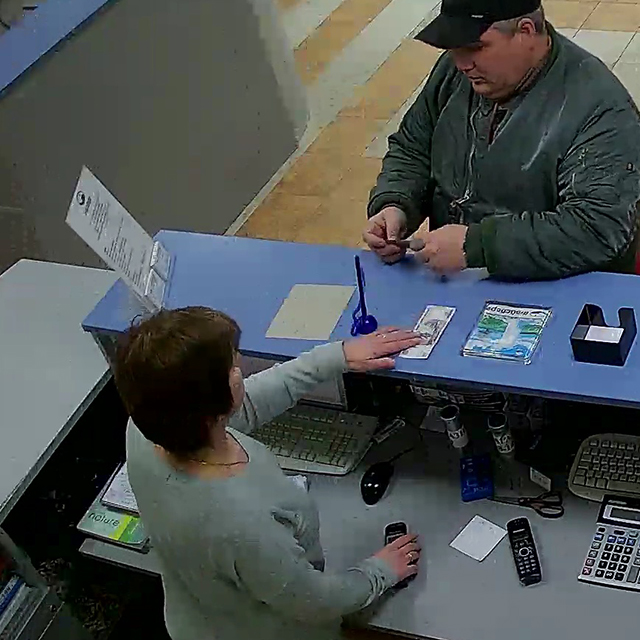banknotes: (402, 305, 454, 362)
